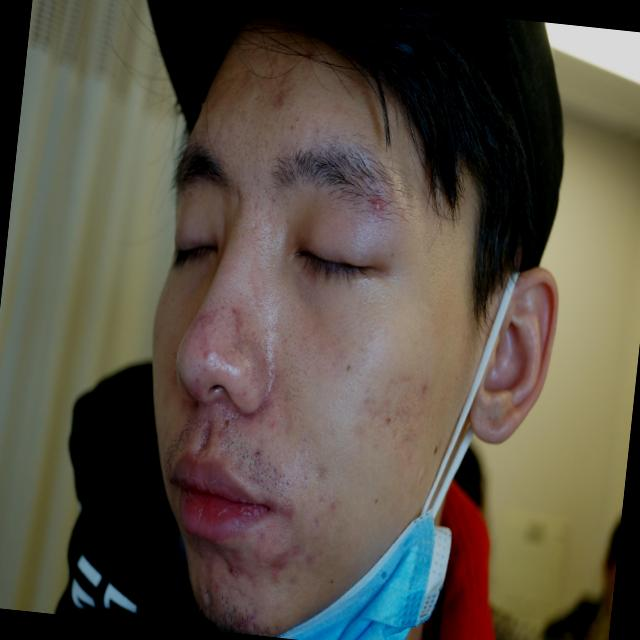blackhead: (374, 499, 376, 504), (290, 125, 292, 129), (388, 418, 390, 422), (386, 419, 388, 423), (330, 580, 332, 583), (316, 130, 318, 132), (296, 118, 298, 120), (222, 306, 224, 308), (288, 335, 290, 337), (256, 180, 258, 182), (236, 166, 238, 168), (245, 153, 247, 155), (292, 395, 294, 396), (254, 176, 255, 178)
nodule: (373, 198, 382, 210)
